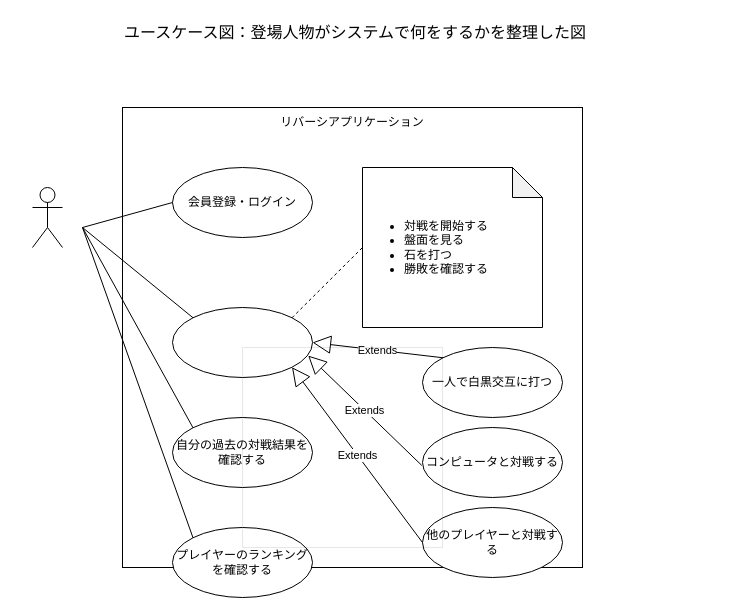
The diagram is 730 pixels wide and 615 high, and some of its shapes have lost their labels. Here are the shapes that lost their labels. From the top down, the centre of each, then its label:
the point at 47,217: プレイヤー
the point at 242,342: 対戦する
